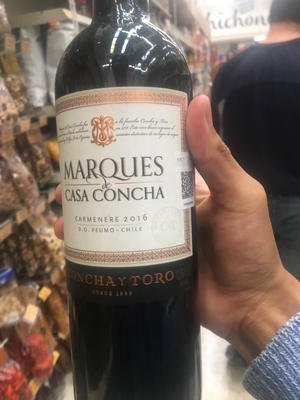marques de casa concha carmenere: (47, 6, 235, 384)
